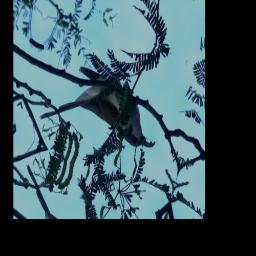Cuckoo: (36, 39, 166, 182)
